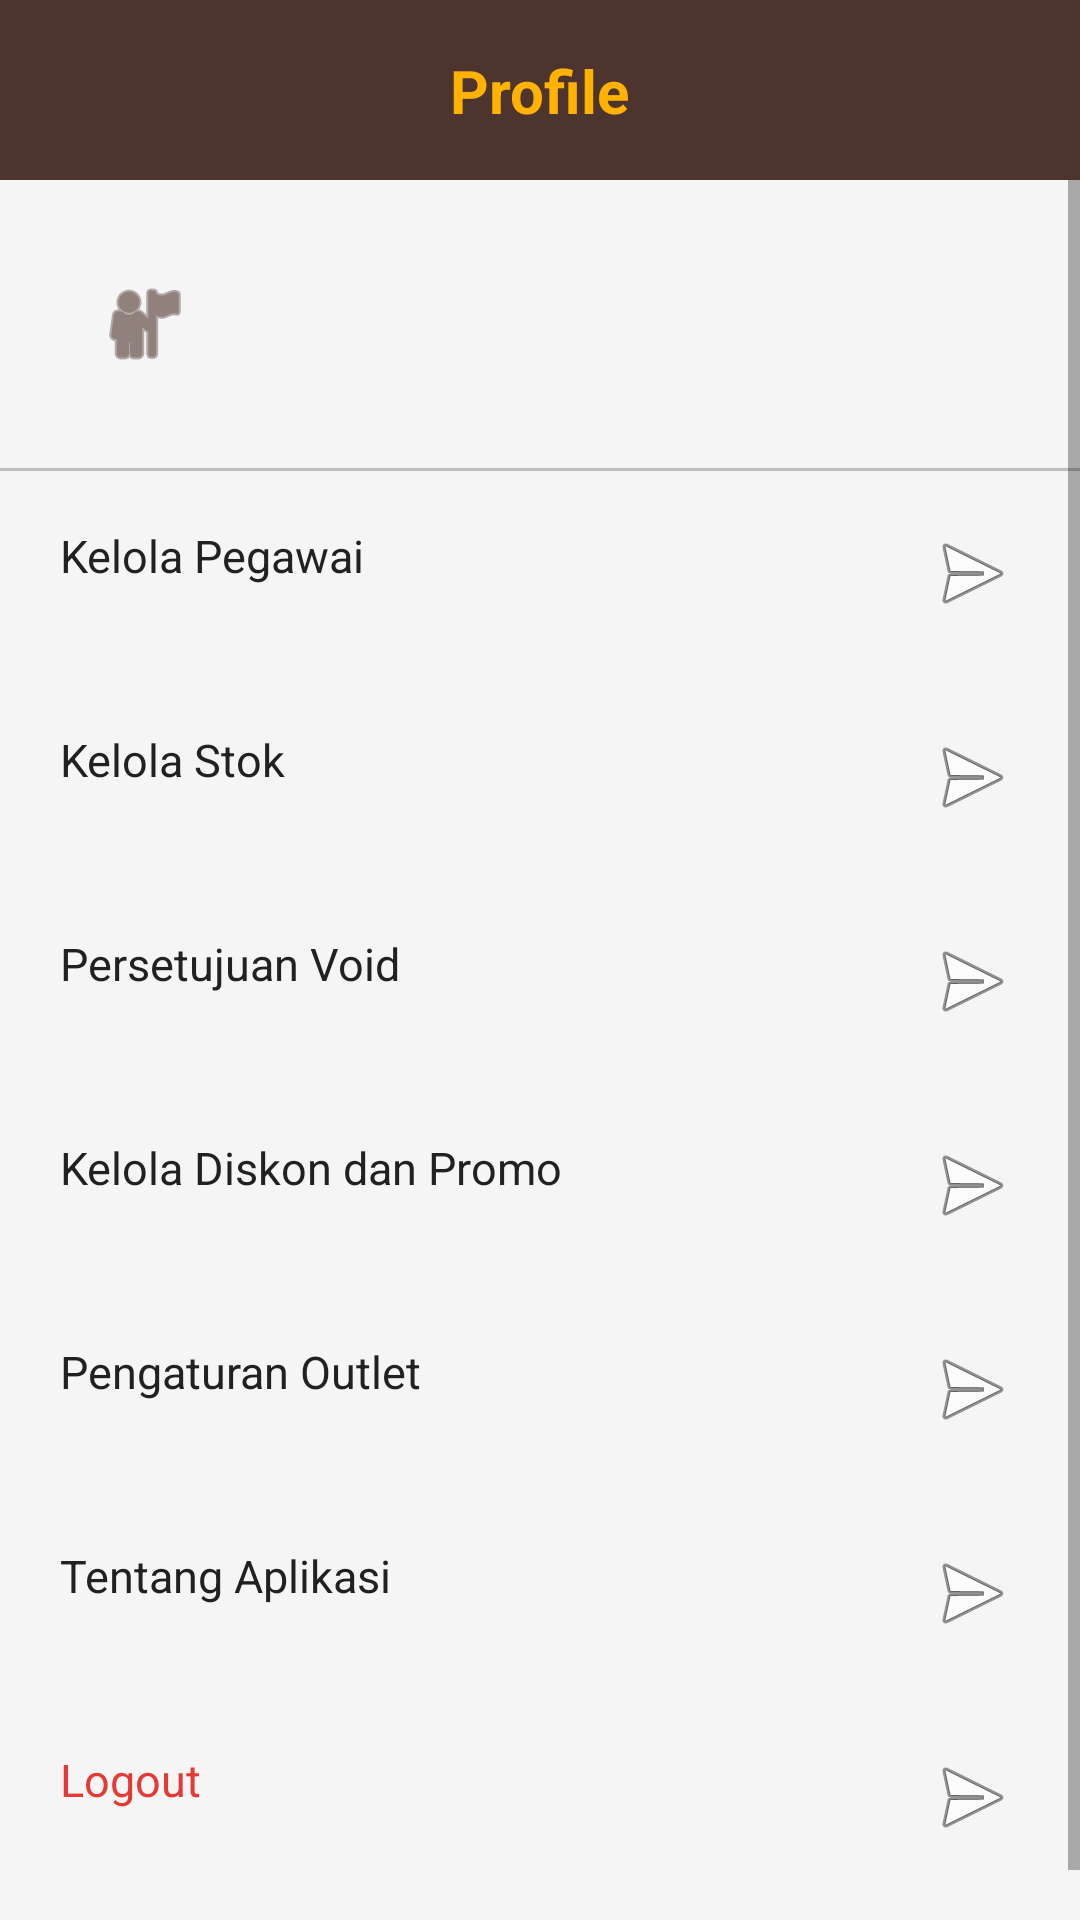

Icon bounding boxes for this 1080px x 1920px phone screenshot, format [x1=x1, y1=y1, x2=x2, y2=y2]:
myplaces: [x1=109, y1=288, x2=181, y2=360]
